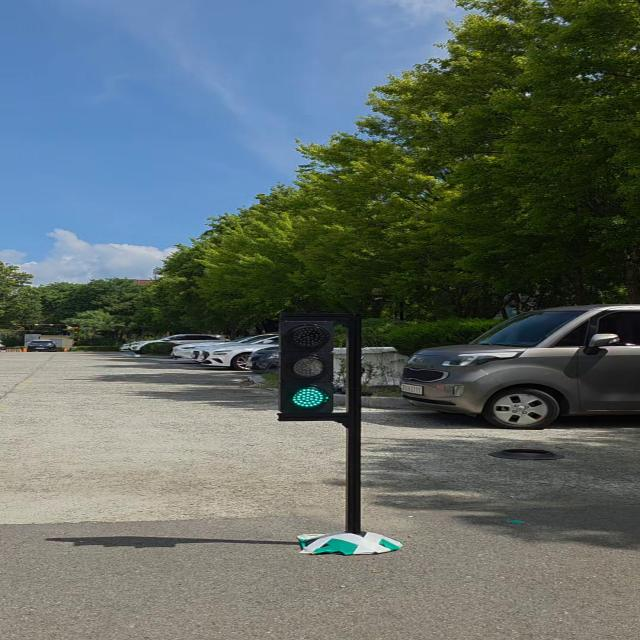green: (279, 321, 339, 421)
